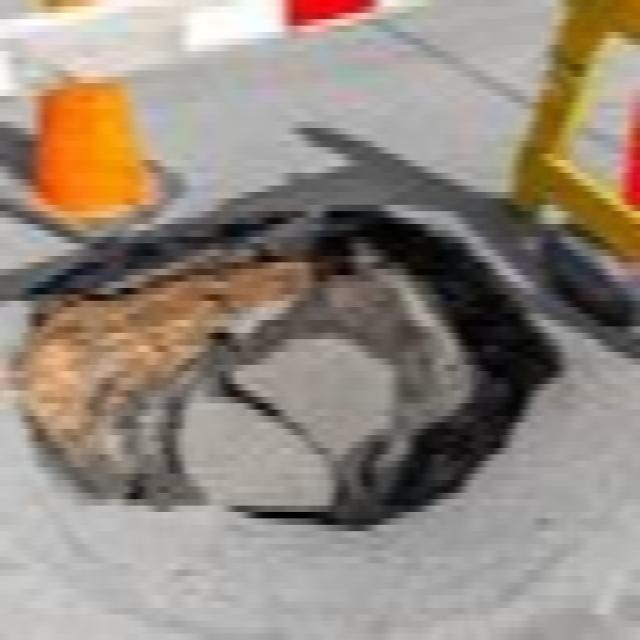Pothole: (7, 184, 567, 540)
